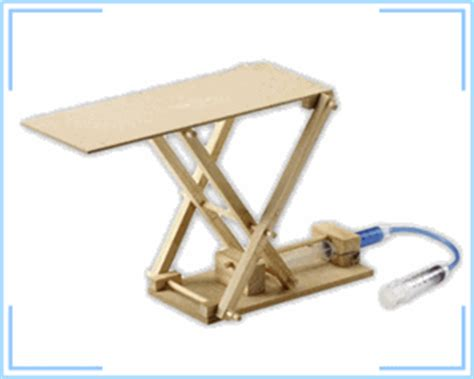Scissor Lift: (22, 62, 461, 326)
